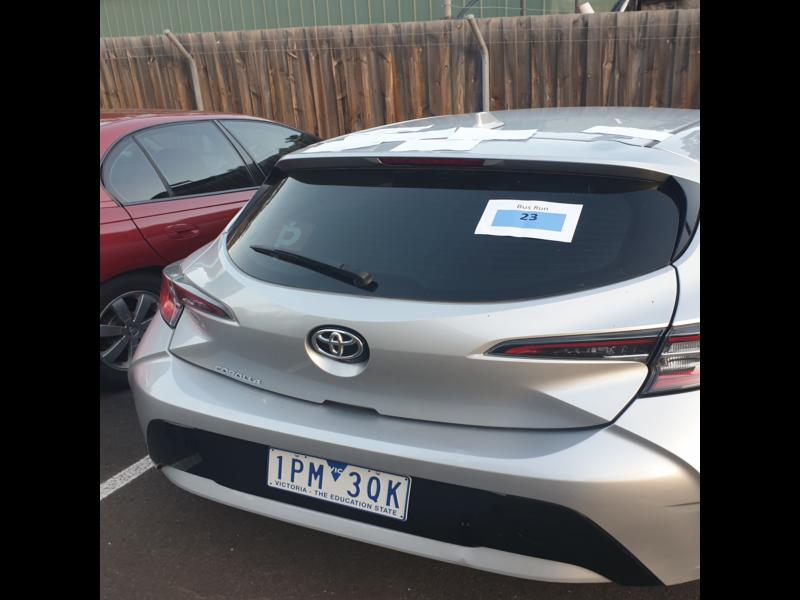BusRun: (490, 208, 566, 229)
PlateNo: (266, 445, 412, 519)
